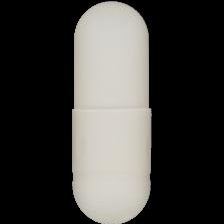69097-421: (0, 0, 224, 224)
